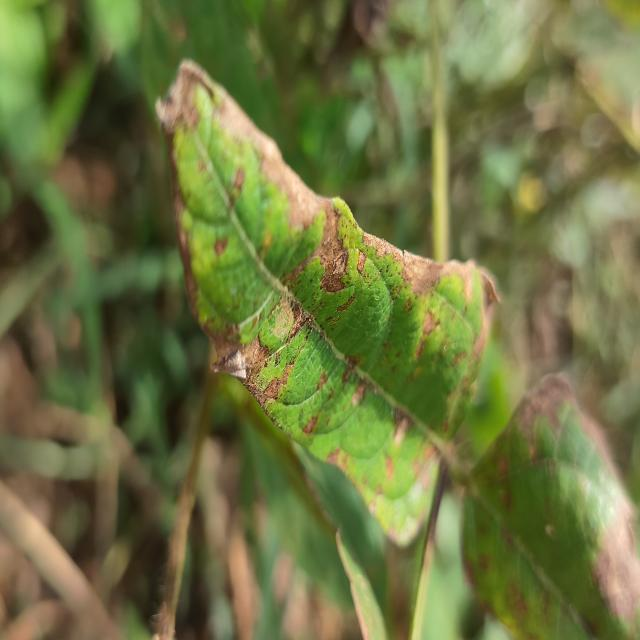Black gram_leaf spot: (155, 59, 500, 536)
